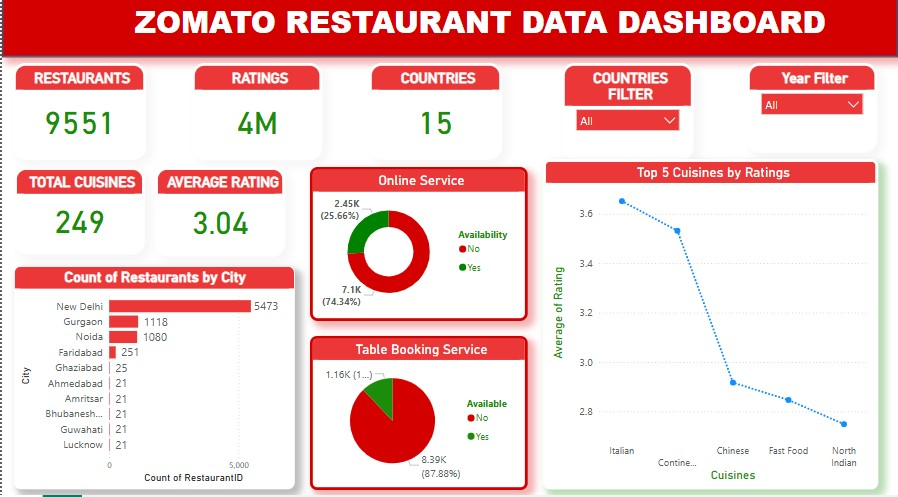

What the dashboard file says about the page in this screenshot:
{"tool":"powerbi","page":{"name":"Page 1","canvas":[1280,720],"ordinal":0},"visuals":[{"type":"shape","box":[0,0,1280,85.7],"z":0},{"type":"textbox","box":[85.7,0,1194.3,85.7],"z":1000},{"type":"card","title":"TOTAL CUISINES","fields":{"Values":["Sheet1.Measure"]},"box":[17.3,243.1,187.2,125.3],"z":2000},{"type":"card","title":"RESTAURANTS","fields":{"Values":["Count(Sheet1.RestaurantID)"]},"box":[15.1,94.3,189.8,137.7],"z":3000},{"type":"card","title":"COUNTRIES","fields":{"Values":["CountNonNull(Sheet2.countryID)"]},"box":[524.1,94.1,189.8,137.7],"z":4000},{"type":"card","title":"RATINGS","fields":{"Values":["Sum(Sheet1.Votes)"]},"box":[272.1,94.1,186.5,139.4],"z":5000},{"type":"card","title":"AVERAGE RATING","fields":{"Values":["Avg(Sheet1.Rating)"]},"box":[218.4,243.6,186.5,127.7],"z":6000},{"type":"slicer","title":"Year Filter","fields":{"Values":["Sheet1.Datekey_Opening"]},"box":[1065,94.1,186.5,127.7],"z":7000},{"type":"slicer","title":"COUNTRIES FILTER","fields":{"Values":["Sheet1.Country"]},"box":[799.6,94.1,188.1,139.4],"z":8000},{"type":"donutChart","title":"Online Service","fields":{"Category":["Sheet1.Has_Online_delivery"],"Y":["Count(Sheet1.RestaurantID)"]},"box":[440.1,243.6,310.8,220.1],"z":9000},{"type":"lineChart","title":"Top 5 Cuisines by Ratings","fields":{"Category":["Sheet1.Cuisines"],"Y":["Avg(Sheet1.Rating)"]},"box":[772.7,231.8,478.7,472],"z":10000},{"type":"pieChart","title":"Table Booking Service","fields":{"Category":["Sheet1.Has_Table_booking"],"Y":["Count(Sheet1.RestaurantID)"]},"box":[440.1,483.8,310.8,220.1],"z":11000},{"type":"clusteredBarChart","title":"Count of Restaurants by City","fields":{"Category":["Sheet1.City"],"Y":["Count(Sheet1.RestaurantID)"]},"box":[16.8,384.7,401.5,319.2],"z":12000}]}

Visuals, with their boxes in screenshot pixels (x1, y1, x2, y2), scaled from the page's 1280x720 canvas onto the 898x497 screenshot:
shape: crop(0, 0, 897, 59)
textbox: crop(60, 0, 897, 59)
"TOTAL CUISINES" card: crop(12, 168, 143, 254)
"RESTAURANTS" card: crop(11, 65, 144, 160)
"COUNTRIES" card: crop(368, 65, 501, 160)
"RATINGS" card: crop(191, 65, 322, 161)
"AVERAGE RATING" card: crop(153, 168, 284, 256)
"Year Filter" slicer: crop(747, 65, 878, 153)
"COUNTRIES FILTER" slicer: crop(561, 65, 693, 161)
"Online Service" donutChart: crop(309, 168, 527, 320)
"Top 5 Cuisines by Ratings" lineChart: crop(542, 160, 878, 486)
"Table Booking Service" pieChart: crop(309, 334, 527, 486)
"Count of Restaurants by City" clusteredBarChart: crop(12, 266, 293, 486)
